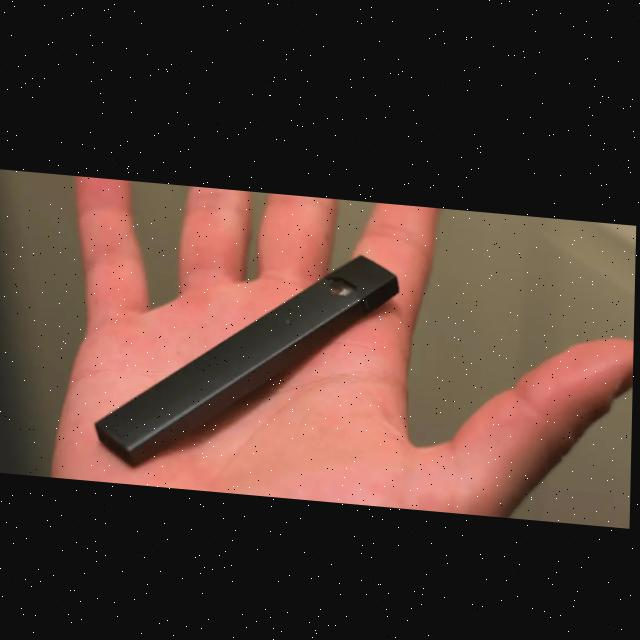vape: (95, 228, 401, 482)
